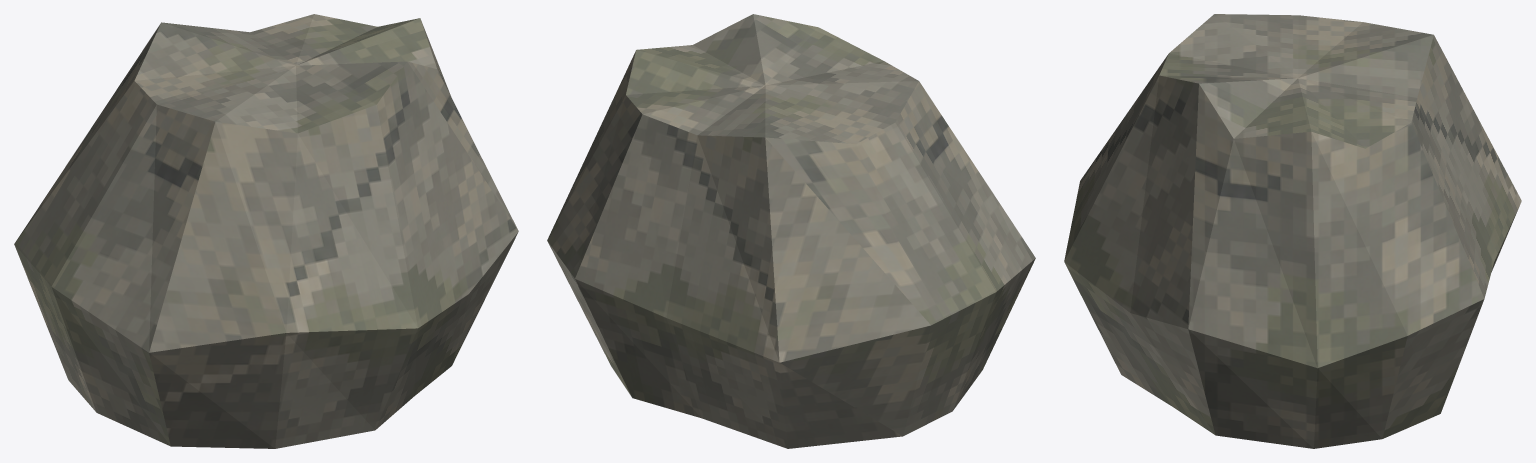
File: Masso_10_Ciottolo.obj
3 renders of one model, left to right at view 1: azimuth 30°, elevation 25°; view 2: azimuth 150°, elevation 25°; view 3: azimuth 270°, elevation 25°, orthographic. The views are drawn at different scales.
Parts seen in each view (by area): view 1: Masso_10_Ciottolo; view 2: Masso_10_Ciottolo; view 3: Masso_10_Ciottolo.
Part boxes in pixels (x1,y1,x2,y2): Masso_10_Ciottolo: [14, 14, 518, 448]; Masso_10_Ciottolo: [547, 14, 1035, 448]; Masso_10_Ciottolo: [1064, 14, 1521, 448].
Size of the model in its own units: 0.8 by 0.55 by 0.7.
